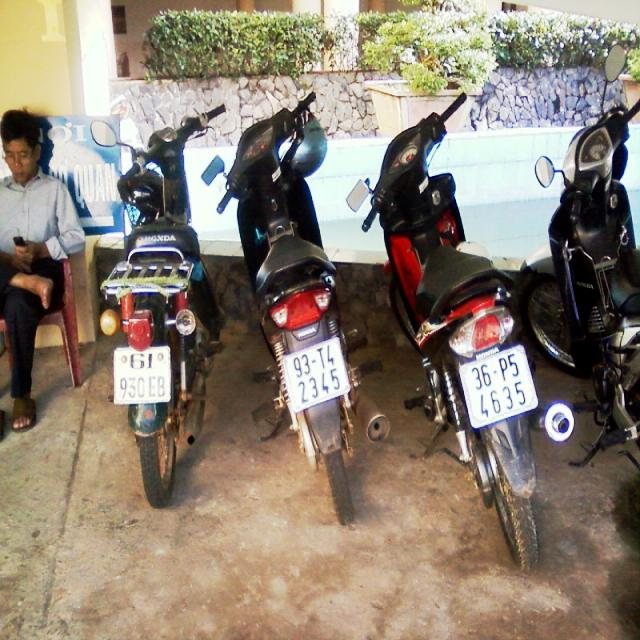license_plate: (462, 345, 540, 430), (286, 339, 352, 413), (115, 349, 170, 405)
